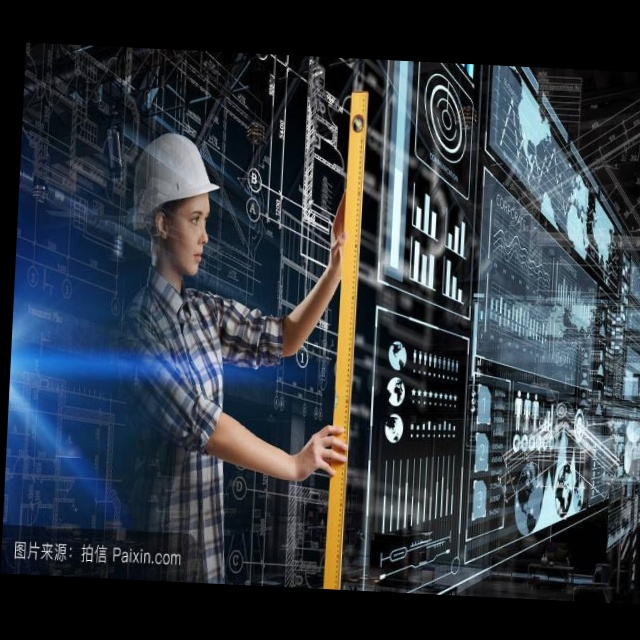Con_Casco: (135, 133, 219, 272)
